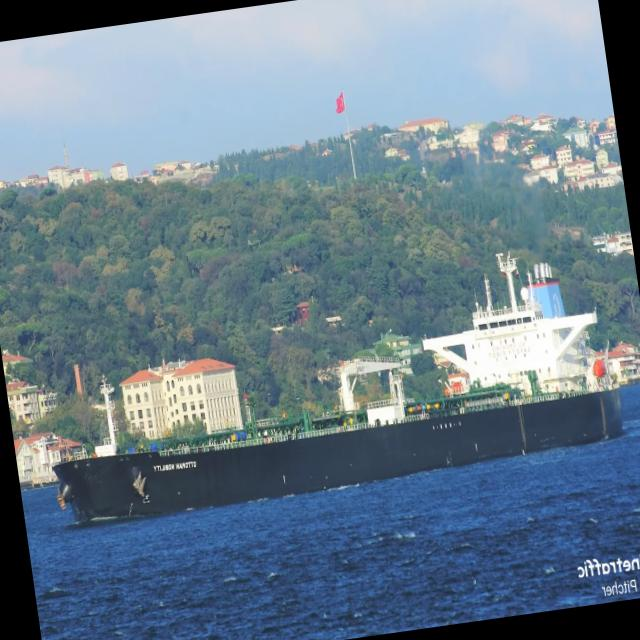Tanker: (57, 253, 621, 522)
